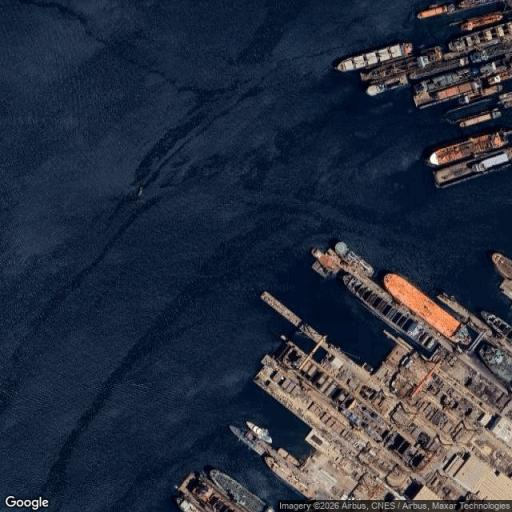ship: (343, 275, 436, 352), (384, 274, 467, 342), (434, 150, 511, 187), (360, 47, 443, 81), (428, 132, 507, 166), (209, 470, 268, 511), (335, 42, 413, 72), (264, 456, 317, 498), (439, 294, 492, 332), (448, 22, 511, 52), (260, 292, 300, 326), (409, 57, 468, 80), (415, 68, 471, 92), (478, 343, 511, 382), (337, 242, 374, 276), (230, 426, 267, 455), (470, 39, 511, 63), (434, 79, 480, 100), (367, 73, 408, 95), (481, 312, 511, 342), (456, 109, 502, 128), (460, 12, 503, 31), (459, 85, 503, 103), (314, 248, 340, 273), (417, 4, 455, 19), (479, 57, 511, 74), (246, 422, 271, 443), (492, 253, 511, 279), (487, 68, 511, 84), (457, 0, 499, 9), (278, 448, 299, 465), (177, 497, 202, 511), (311, 261, 326, 277), (499, 92, 511, 108)
